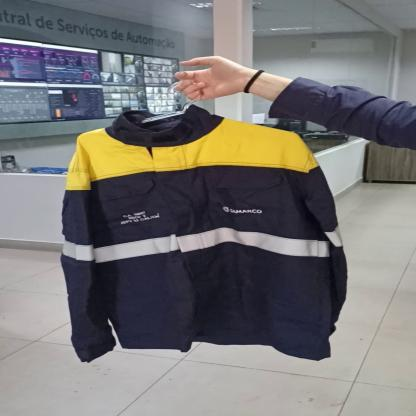C_eletrica: (57, 116, 351, 364)
